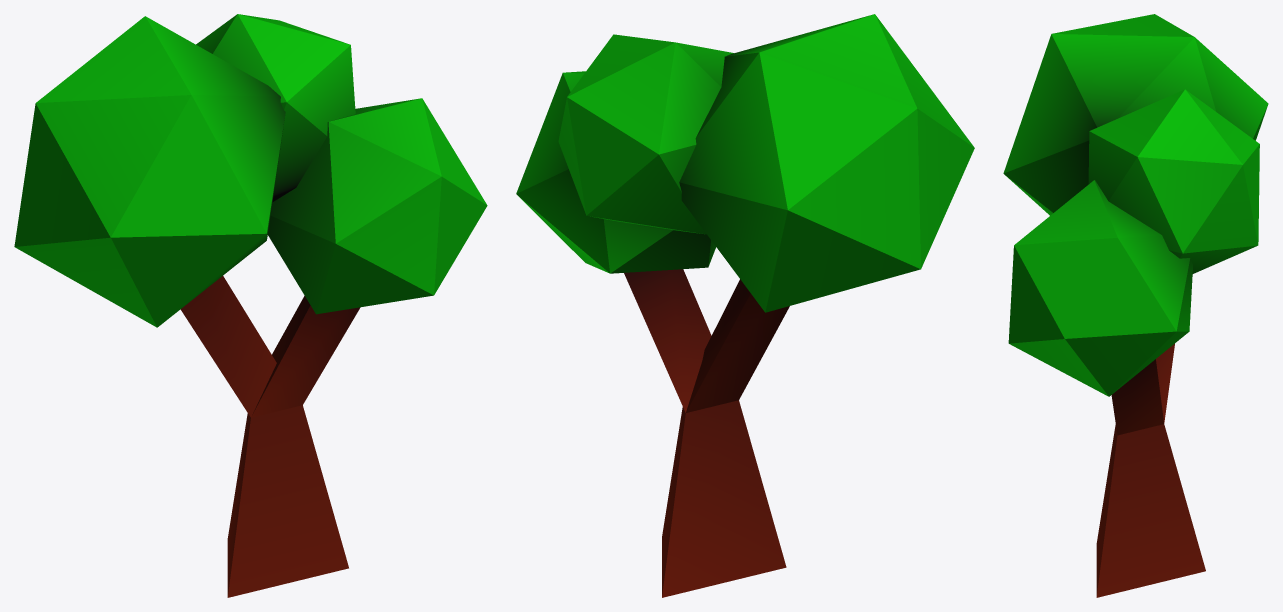
Rendered from tree2.fbx.
3 views of the same model, side by side, from view 1: azimuth 30°, elevation 25°; view 2: azimuth 150°, elevation 25°; view 3: azimuth 270°, elevation 25° (orthographic). The views are drawn at different scales.
Visible parts, largest first — view 1: tree.006; view 2: tree.006; view 3: tree.006.
Boxes of the visible parts, left/top/right/bottom form: tree.006: left=14, top=14, right=487, bottom=597; tree.006: left=516, top=14, right=974, bottom=597; tree.006: left=1003, top=14, right=1268, bottom=597.
Bounding box in the file's own units: 591 × 748 × 363.
